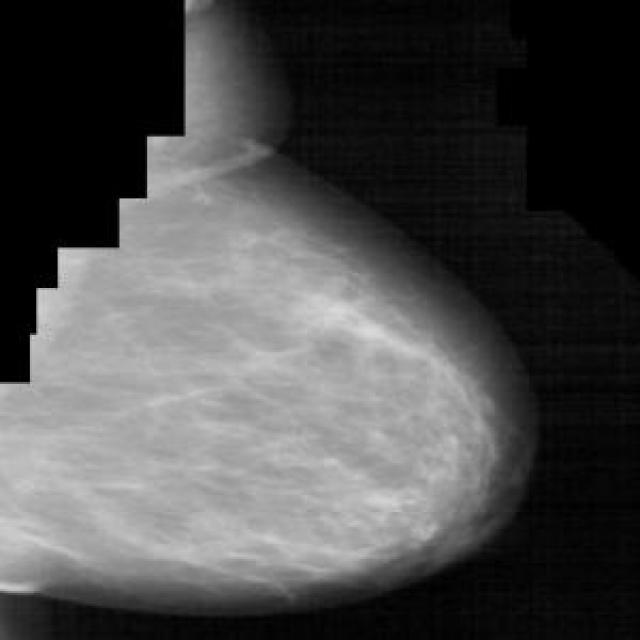tumor: (251, 468, 451, 586), (292, 266, 463, 370)
